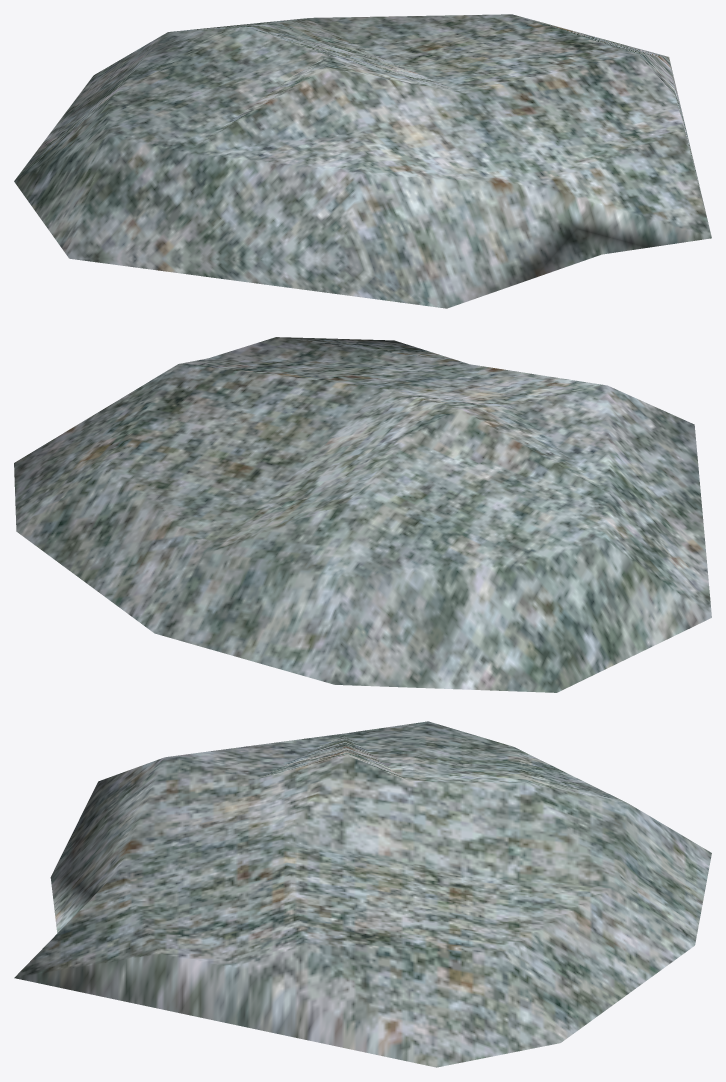
Rendered from rock_graniteslab_small_l0.fbx.
The picture shows the model from 3 angles, top to bottom: view 1: azimuth 30°, elevation 25°; view 2: azimuth 150°, elevation 25°; view 3: azimuth 270°, elevation 25°; orthographic projection. The views are drawn at different scales.
Visible parts, largest first — view 1: mesh_node; view 2: mesh_node; view 3: mesh_node.
Boxes of the visible parts, bbox=[...] form: mesh_node: bbox=[14, 14, 711, 308]; mesh_node: bbox=[14, 337, 711, 692]; mesh_node: bbox=[14, 721, 711, 1067].
Size of the model in its own units: 1.01 by 0.2159 by 0.925.
